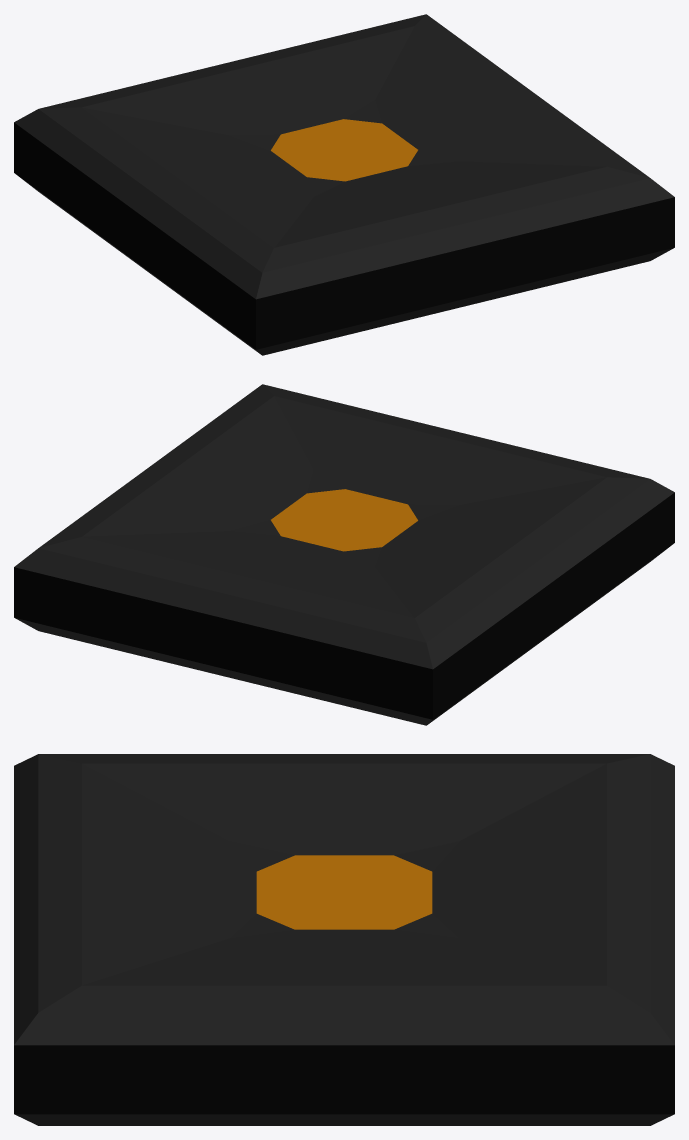
The model's file is stone.glb.
The picture shows the model from 3 angles, top to bottom: view 1: azimuth 30°, elevation 25°; view 2: azimuth 150°, elevation 25°; view 3: azimuth 270°, elevation 25°; orthographic projection. The views are drawn at different scales.
Visible parts, largest first — view 1: Cube; view 2: Cube; view 3: Cube.
Boxes of the visible parts, x1,y1,x2,y2 form: Cube: (14, 14, 674, 355); Cube: (14, 384, 674, 725); Cube: (14, 754, 674, 1125).
Size of the model in its own units: 0.7693 by 0.1681 by 0.7693.
Materials: 2 (2 with a texture image).
